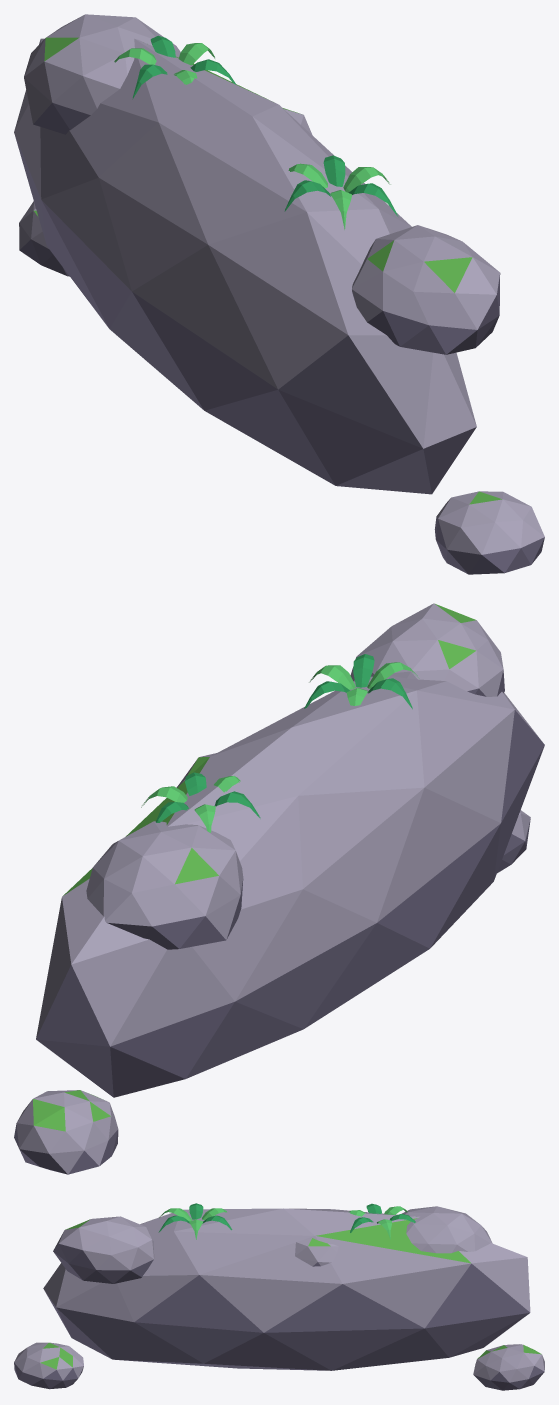
File: Boulders.fbx
The picture shows the model from 3 angles, top to bottom: view 1: azimuth 30°, elevation 25°; view 2: azimuth 150°, elevation 25°; view 3: azimuth 270°, elevation 25°; orthographic projection. The views are drawn at different scales.
Visible parts, largest first — view 1: Boulders; view 2: Boulders; view 3: Boulders.
Boxes of the visible parts, x1,y1,x2,y2 form: Boulders: (14, 14, 544, 574); Boulders: (14, 603, 544, 1174); Boulders: (14, 1203, 544, 1390).
Bounding box in the file's own units: 1.72 × 2.33 × 6.67.
1 material, 1 textured.
